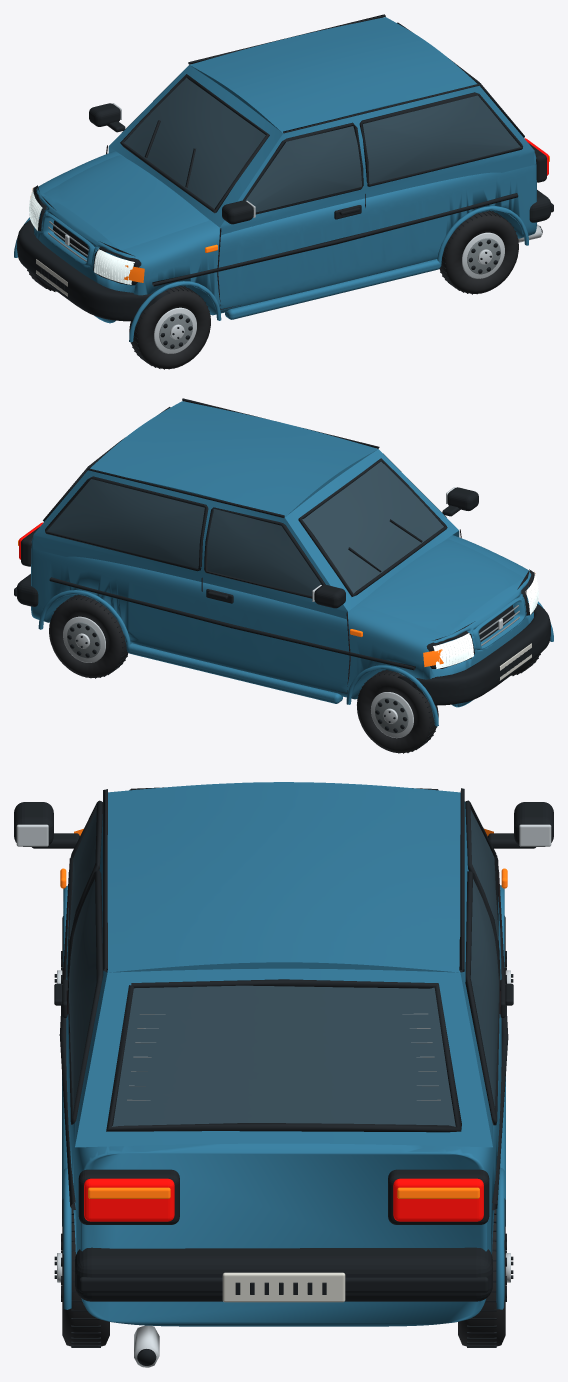
File: oka.glb
3 renders of one model, top to bottom at view 1: azimuth 30°, elevation 25°; view 2: azimuth 150°, elevation 25°; view 3: azimuth 270°, elevation 25°, orthographic. The views are drawn at different scales.
Parts seen in each view (by area): view 1: Body_Paint_oka, Body_Curved smoked glass.002, Body_Black trim.002, StockBumpers_Black trim.002, Wheel_RR_Tyre.002, Wheel_FR_Tyre.002, StockSkirts_Paint_oka, StockFenders_Paint_oka, Body_Prismatic headlight glass.002, Wheel_RR_Machined aluminium.002, Wheel_FR_Machined aluminium.002, Wheel_FR_Brake steel.002 (+3 smaller); view 2: Body_Paint_oka, Body_Curved smoked glass.002, Body_Black trim.002, StockBumpers_Black trim.002, Wheel_RL_Tyre.002, Wheel_FL_Tyre.002, StockSkirts_Paint_oka, StockFenders_Paint_oka, Body_Prismatic headlight glass.002, Wheel_RL_Machined aluminium.002, Wheel_FL_Machined aluminium.002, Wheel_RL_Brake steel.002 (+2 smaller); view 3: Body_Paint_oka, Body_Curved smoked glass.002, Body_Black trim.002, StockBumpers_Black trim.002, Body_Red lens.002, Body_Numberplate.002, StockFenders_Paint_oka, Body_Amber lens.002, Body_Machined aluminium.002, Wheel_RL_Tyre.002, Wheel_RR_Tyre.002, StockSkirts_Paint_oka (+2 smaller).
Boxes of the visible parts, x1=… form: Body_Paint_oka: x1=34, y1=17, x2=536, y2=323; Body_Curved smoked glass.002: x1=123, y1=77, x2=520, y2=212; Body_Black trim.002: x1=33, y1=14, x2=546, y2=290; StockBumpers_Black trim.002: x1=16, y1=190, x2=553, y2=321; Wheel_RR_Tyre.002: x1=439, y1=211, x2=518, y2=293; Wheel_FR_Tyre.002: x1=129, y1=286, x2=210, y2=368; StockSkirts_Paint_oka: x1=225, y1=259, x2=440, y2=319; StockFenders_Paint_oka: x1=14, y1=206, x2=528, y2=342; Body_Prismatic headlight glass.002: x1=29, y1=189, x2=134, y2=284; Wheel_RR_Machined aluminium.002: x1=462, y1=232, x2=504, y2=278; Wheel_FR_Machined aluminium.002: x1=154, y1=307, x2=196, y2=353; Wheel_FR_Brake steel.002: x1=159, y1=313, x2=192, y2=349; Body_Paint_oka: x1=31, y1=401, x2=533, y2=707; Body_Curved smoked glass.002: x1=47, y1=461, x2=443, y2=595; Body_Black trim.002: x1=21, y1=398, x2=535, y2=673; StockBumpers_Black trim.002: x1=14, y1=574, x2=550, y2=705; Wheel_RL_Tyre.002: x1=49, y1=595, x2=128, y2=677; Wheel_FL_Tyre.002: x1=357, y1=670, x2=438, y2=753; StockSkirts_Paint_oka: x1=127, y1=643, x2=342, y2=703; StockFenders_Paint_oka: x1=38, y1=590, x2=553, y2=726; Body_Prismatic headlight glass.002: x1=433, y1=572, x2=538, y2=668; Wheel_RL_Machined aluminium.002: x1=63, y1=616, x2=105, y2=662; Wheel_FL_Machined aluminium.002: x1=371, y1=692, x2=413, y2=738; Wheel_RL_Brake steel.002: x1=67, y1=622, x2=100, y2=658; Body_Paint_oka: x1=66, y1=782, x2=501, y2=1326; Body_Curved smoked glass.002: x1=69, y1=809, x2=498, y2=1126; Body_Black trim.002: x1=14, y1=787, x2=553, y2=1365; StockBumpers_Black trim.002: x1=75, y1=1247, x2=492, y2=1301; Body_Red lens.002: x1=84, y1=1178, x2=483, y2=1221; Body_Numberplate.002: x1=222, y1=1272, x2=345, y2=1302; StockFenders_Paint_oka: x1=63, y1=885, x2=504, y2=1309; Body_Amber lens.002: x1=60, y1=828, x2=507, y2=1198; Body_Machined aluminium.002: x1=16, y1=824, x2=551, y2=1367; Wheel_RL_Tyre.002: x1=458, y1=1198, x2=505, y2=1346; Wheel_RR_Tyre.002: x1=62, y1=1199, x2=109, y2=1346; StockSkirts_Paint_oka: x1=62, y1=1075, x2=505, y2=1226.
Bounding box in the file's own units: 3.21 × 1.4 × 1.76.
